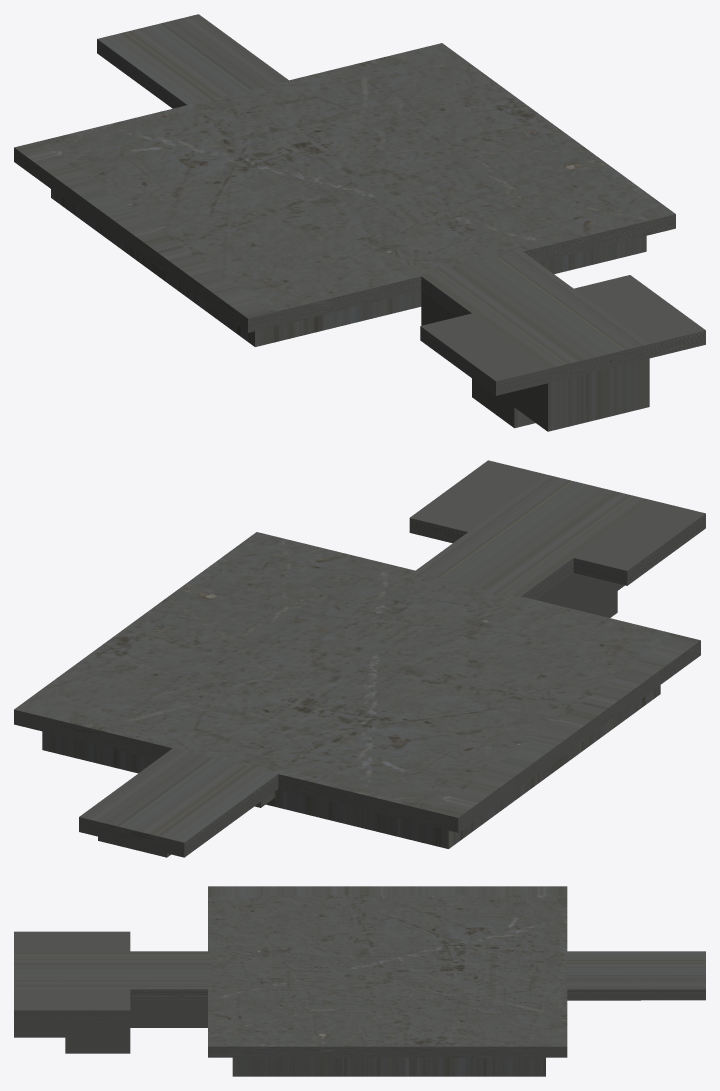
The model's file is plataformapuzzle.fbx.
3 renders of one model, top to bottom at view 1: azimuth 30°, elevation 25°; view 2: azimuth 150°, elevation 25°; view 3: azimuth 270°, elevation 25°, orthographic. The views are drawn at different scales.
Parts seen in each view (by area): view 1: Cubo; view 2: Cubo; view 3: Cubo.
Part boxes in pixels (bbox=[...]): Cubo: bbox=[14, 14, 705, 431]; Cubo: bbox=[14, 460, 705, 857]; Cubo: bbox=[14, 886, 705, 1076].
Size of the model in its own units: 4396 by 823 by 8017.
1 material, 1 textured.
